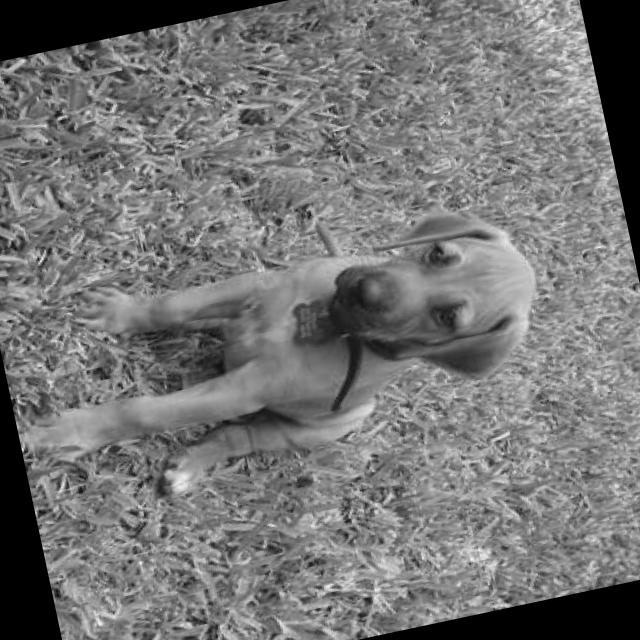sitting: (0, 188, 565, 527)
